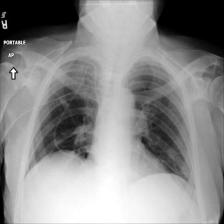normal: (22, 50, 199, 204)
